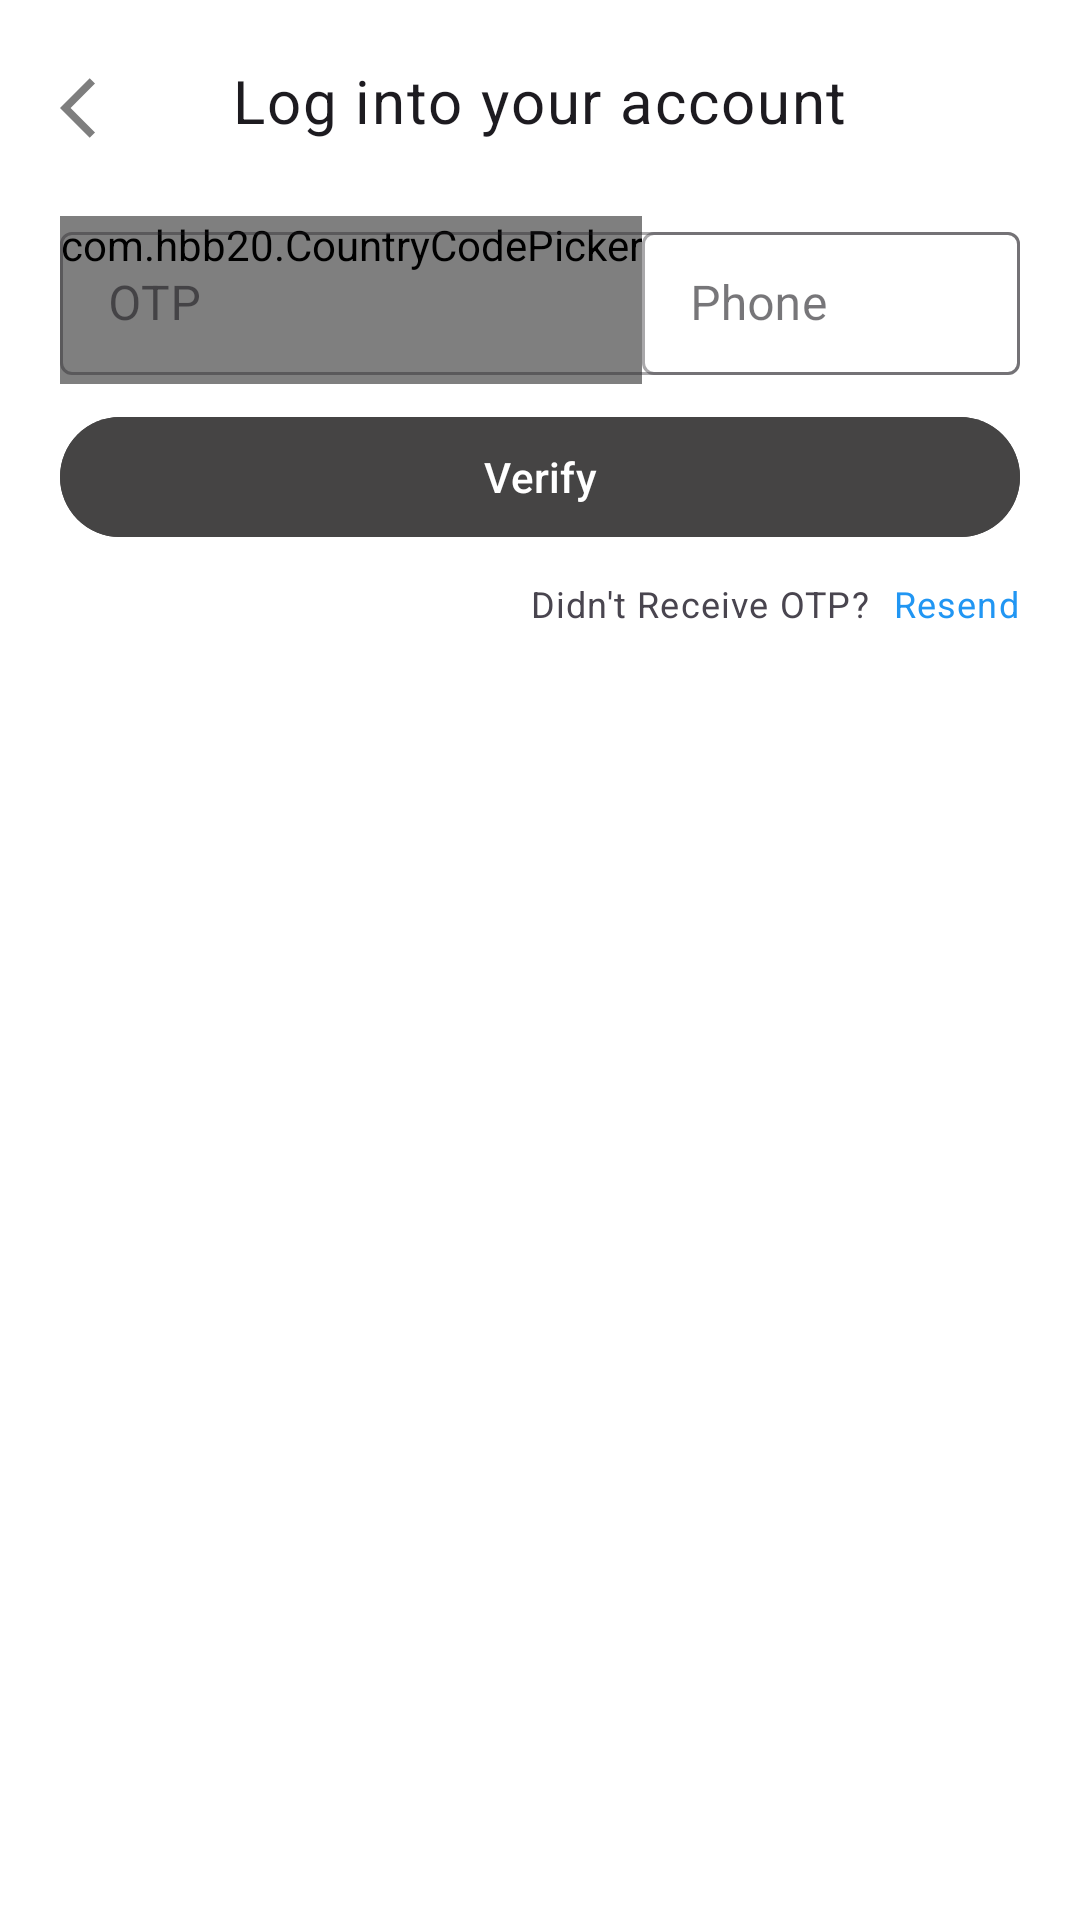

Where to tap for icons on this 1080w x 1920h app screen, as point (x, y):
arrow back: point (77, 108)
